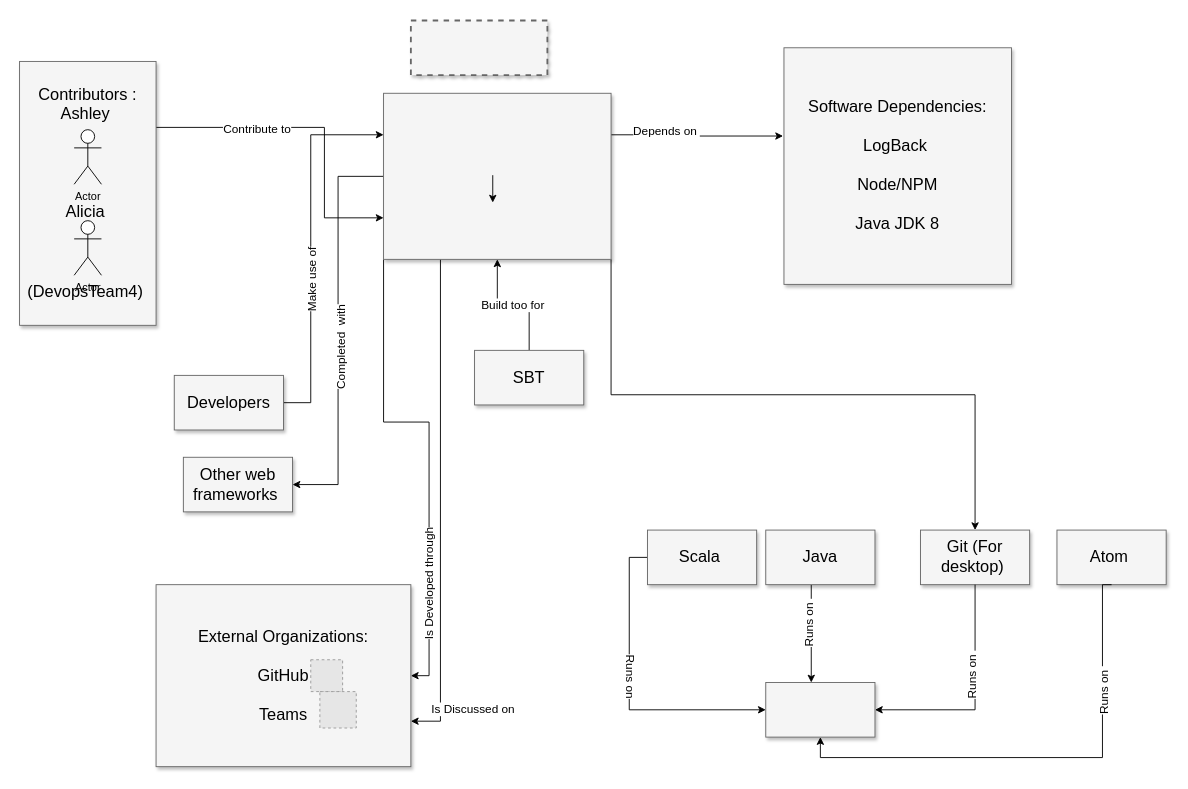
Some shapes in this 1188 by 789 pixel diagram are drawn without their labels. Grey dashed boxes stand in for pictures. The centre of each missing label's shape, as x and y in pixels:
Context: pixel 479 48
Type Safe: Analyticalmetlx com-430-devops-metl-devteam4: pixel 498 177
Virtual Machine: pixel 820 710
